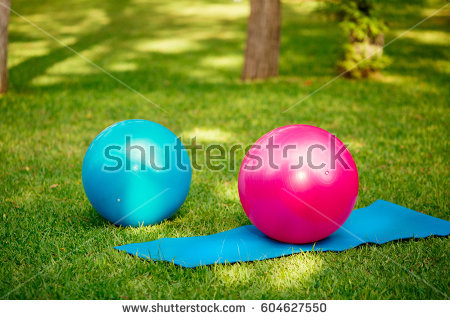yogaball: (239, 122, 361, 246), (86, 120, 197, 230)
